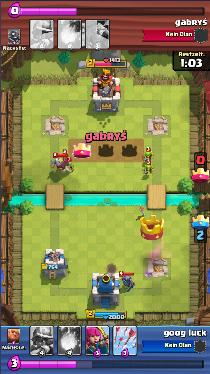enemy_goblin: (142, 163, 155, 176), (141, 151, 154, 162), (66, 160, 75, 170)
enemy_knight: (47, 156, 70, 173)
enemy_mini_pekka: (120, 274, 135, 292)
